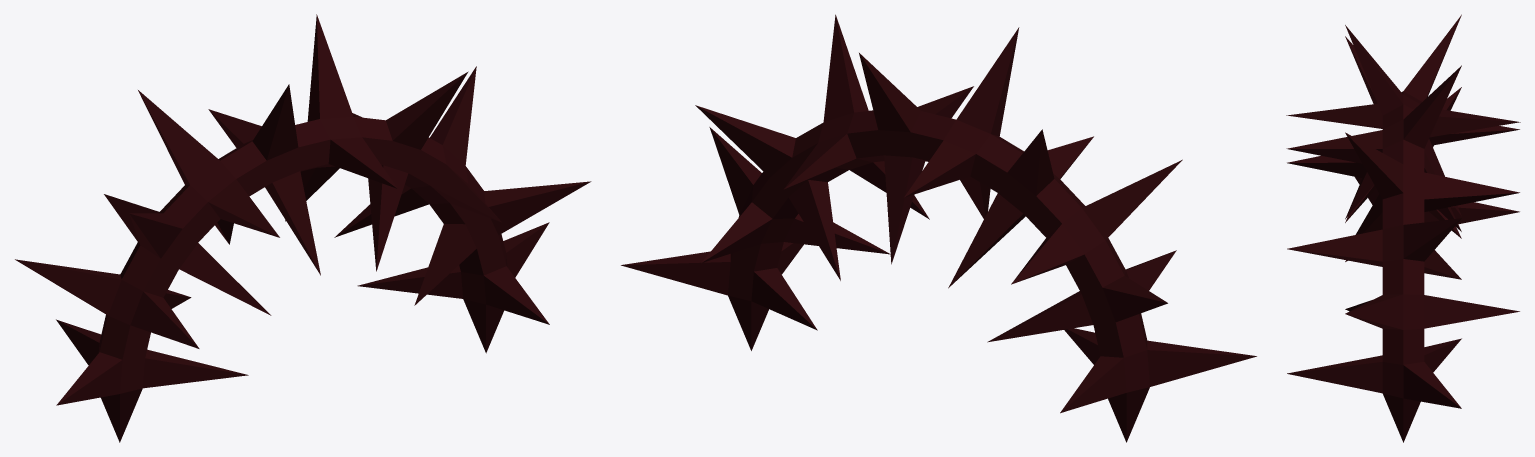
The model's file is Dandelion_Ronce_Normal.FBX.
The picture shows the model from 3 angles, left to right: view 1: azimuth 30°, elevation 25°; view 2: azimuth 150°, elevation 25°; view 3: azimuth 270°, elevation 25°; orthographic projection. The views are drawn at different scales.
Visible parts, largest first — view 1: Cylinder044; view 2: Cylinder044; view 3: Cylinder044.
Boxes of the visible parts, <box> form: Cylinder044: <box>15,14,591,442</box>; Cylinder044: <box>621,14,1256,442</box>; Cylinder044: <box>1286,14,1520,442</box>.
Size of the model in its own units: 485 by 290 by 195.
